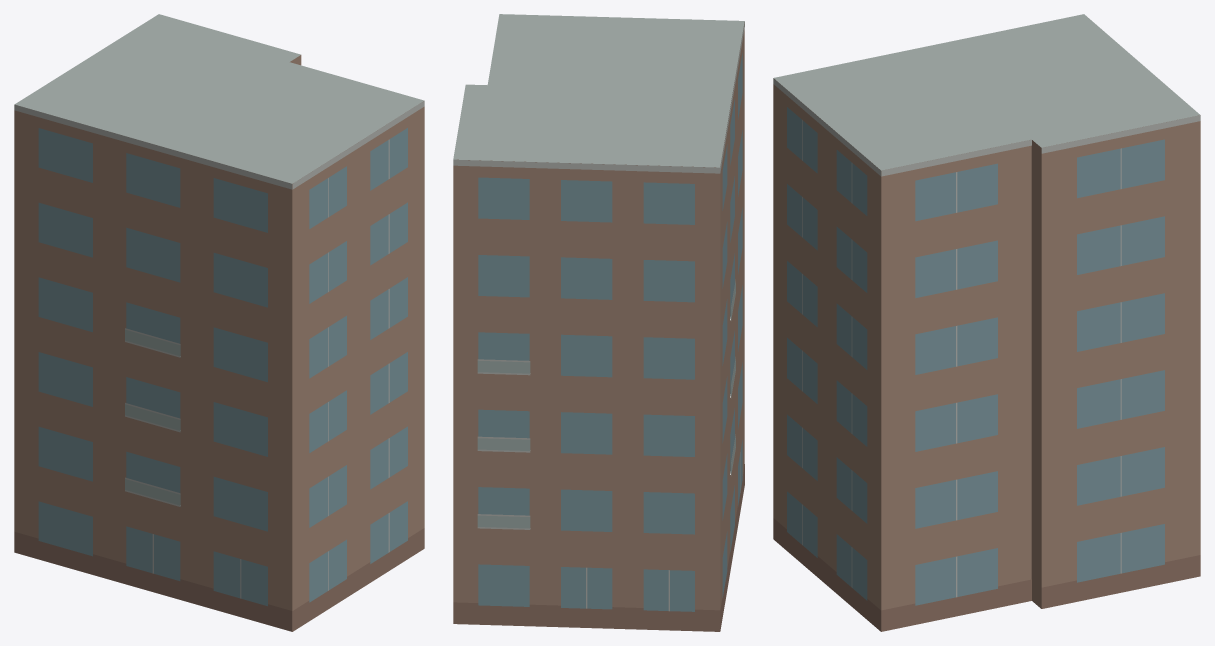
File: survey-upis-32983191.glb
3 renders of one model, left to right at view 1: azimuth 30°, elevation 25°; view 2: azimuth 150°, elevation 25°; view 3: azimuth 270°, elevation 25°, orthographic. The views are drawn at different scales.
Visible parts, largest first — view 1: survey-upis-32983191.tmp; view 2: survey-upis-32983191.tmp; view 3: survey-upis-32983191.tmp.
Part boxes in pixels (x1,y1,x2,y2): survey-upis-32983191.tmp: [14, 14, 424, 631]; survey-upis-32983191.tmp: [453, 14, 744, 631]; survey-upis-32983191.tmp: [773, 14, 1200, 631].
Bounding box in the file's own units: 13.62 × 18.7 × 15.7.
